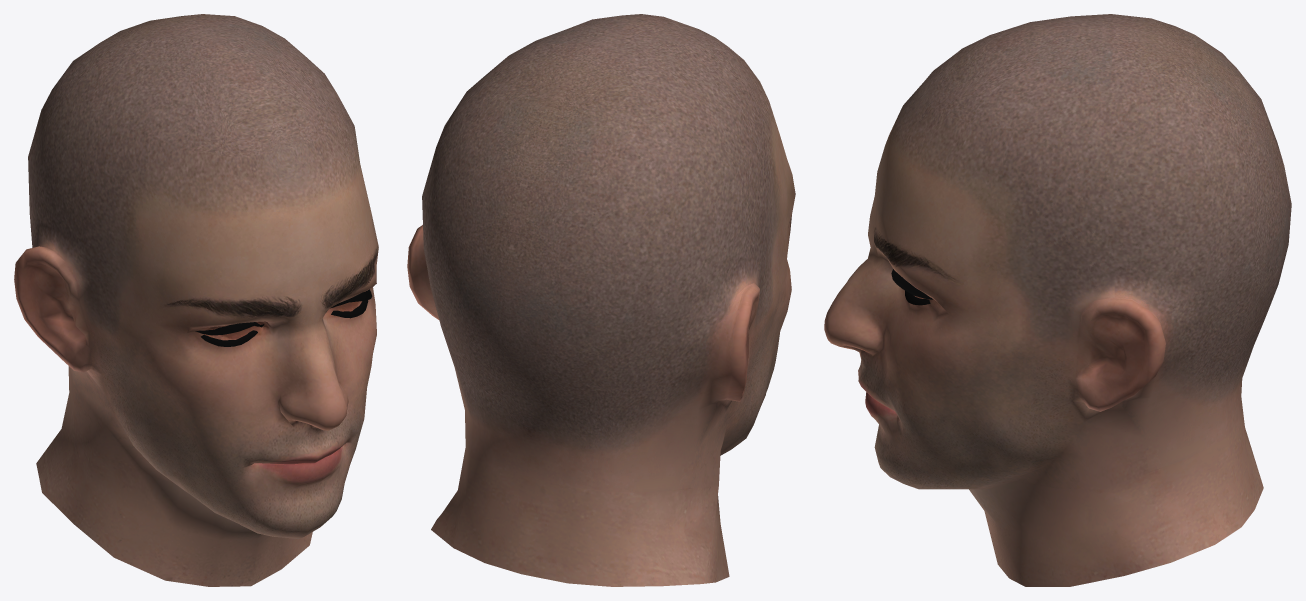
The model's file is SurvivorMale_Head_06_LOD0.glb.
3 views of the same model, side by side, from view 1: azimuth 30°, elevation 25°; view 2: azimuth 150°, elevation 25°; view 3: azimuth 270°, elevation 25° (orthographic). The views are drawn at different scales.
Visible parts, largest first — view 1: Hoodie; view 2: Hoodie; view 3: Hoodie.
Part boxes in pixels (x1,y1,x2,y2): Hoodie: (14, 14, 378, 586); Hoodie: (407, 14, 795, 586); Hoodie: (824, 14, 1291, 586).
Bounding box in the file's own units: 0.1849 × 0.2886 × 0.2286.
Materials: 1 (1 with a texture image).
